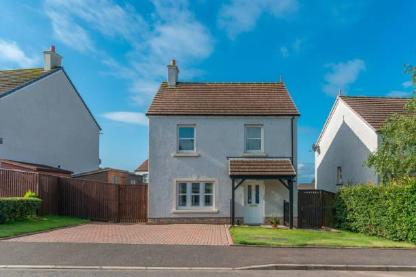door: (240, 179, 266, 230)
